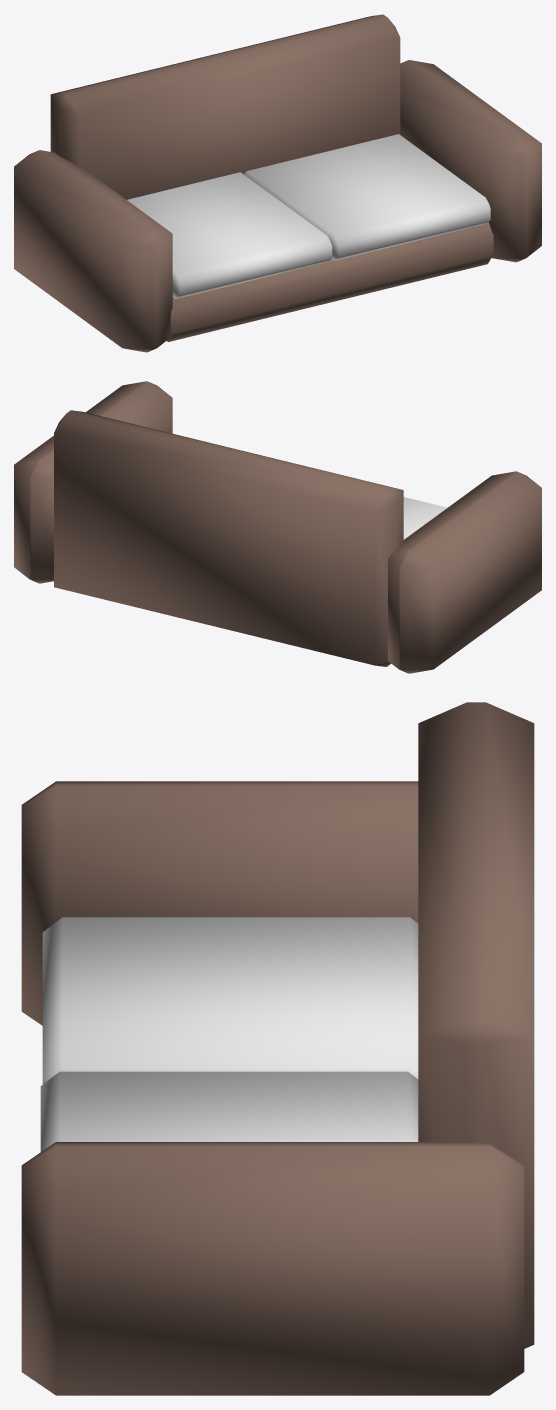
The picture shows the model from 3 angles, top to bottom: view 1: azimuth 30°, elevation 25°; view 2: azimuth 150°, elevation 25°; view 3: azimuth 270°, elevation 25°; orthographic projection. The views are drawn at different scales.
Parts seen in each view (by area): view 1: Cube.002, Cube.003, Cube.005, Cube.001, Cube.004, Cube; view 2: Cube.002, Cube.003, Cube.001, Cube.004; view 3: Cube.001, Cube.004, Cube.003, Cube.002, Cube.005.
Part boxes in pixels (x1,y1,x2,y2): Cube.002: [50, 14, 400, 199]; Cube.003: [14, 150, 172, 352]; Cube.005: [244, 134, 490, 260]; Cube.001: [400, 60, 541, 262]; Cube.004: [127, 172, 332, 298]; Cube: [167, 222, 493, 341]; Cube.002: [54, 410, 403, 666]; Cube.003: [388, 471, 541, 673]; Cube.001: [14, 381, 172, 583]; Cube.004: [403, 497, 447, 539]; Cube.001: [21, 1142, 524, 1395]; Cube.004: [42, 917, 418, 1084]; Cube.003: [21, 781, 418, 1025]; Cube.002: [418, 702, 534, 1348]; Cube.005: [40, 1071, 418, 1151].
Size of the model in its own units: 2.51 by 1 by 1.33.
